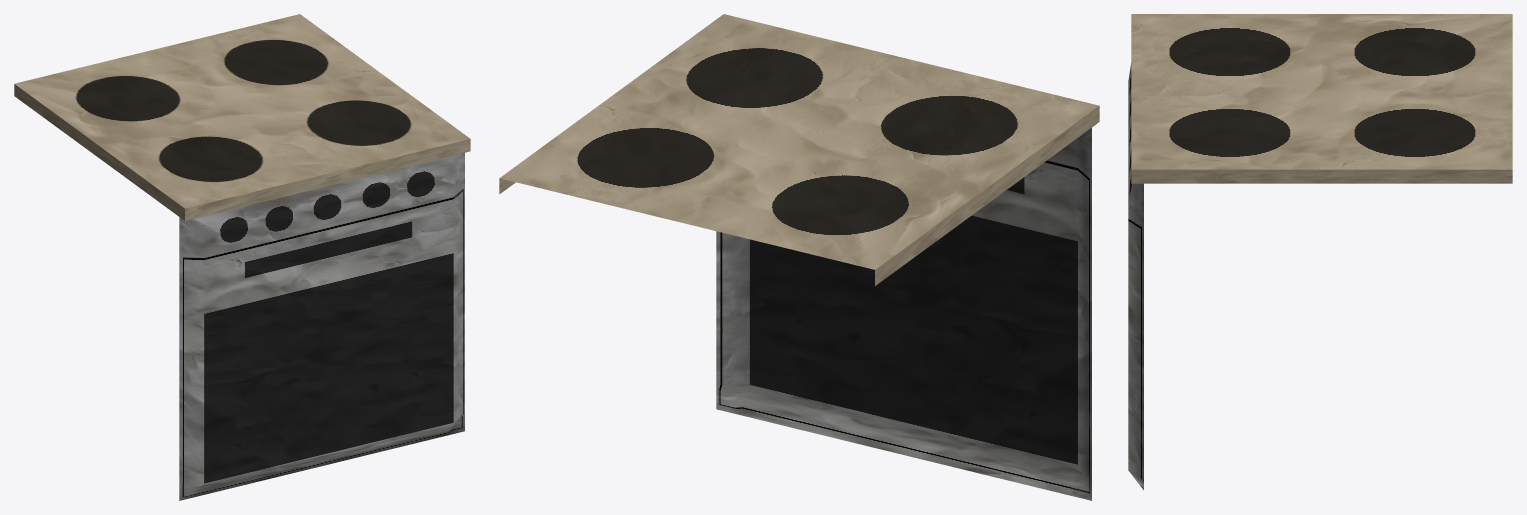
Rendered from stove.fbx.
3 renders of one model, left to right at view 1: azimuth 30°, elevation 25°; view 2: azimuth 150°, elevation 25°; view 3: azimuth 270°, elevation 25°, orthographic. The views are drawn at different scales.
Visible parts, largest first — view 1: Stove; view 2: Stove; view 3: Stove.
Boxes of the visible parts, <box> form: Stove: <box>14,14,470,500</box>; Stove: <box>499,14,1099,500</box>; Stove: <box>1128,14,1512,490</box>.
Size of the model in its own units: 1 by 0.9913 by 1.04.
Materials: 1 (1 with a texture image).
